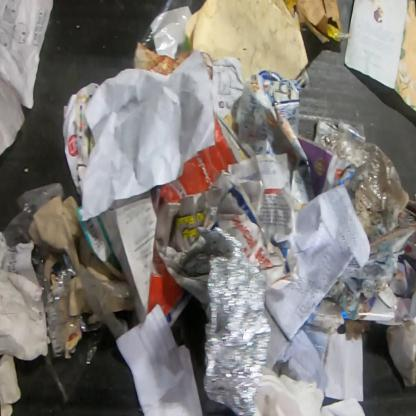cardboard: (154, 172, 256, 321), (28, 194, 128, 282), (159, 117, 239, 202), (284, 0, 354, 45), (385, 319, 415, 389), (148, 270, 185, 317), (64, 332, 84, 360)
metal: (202, 225, 273, 416)
soft_plastic: (30, 238, 136, 366), (318, 122, 411, 228), (1, 181, 66, 249), (140, 0, 202, 61)
